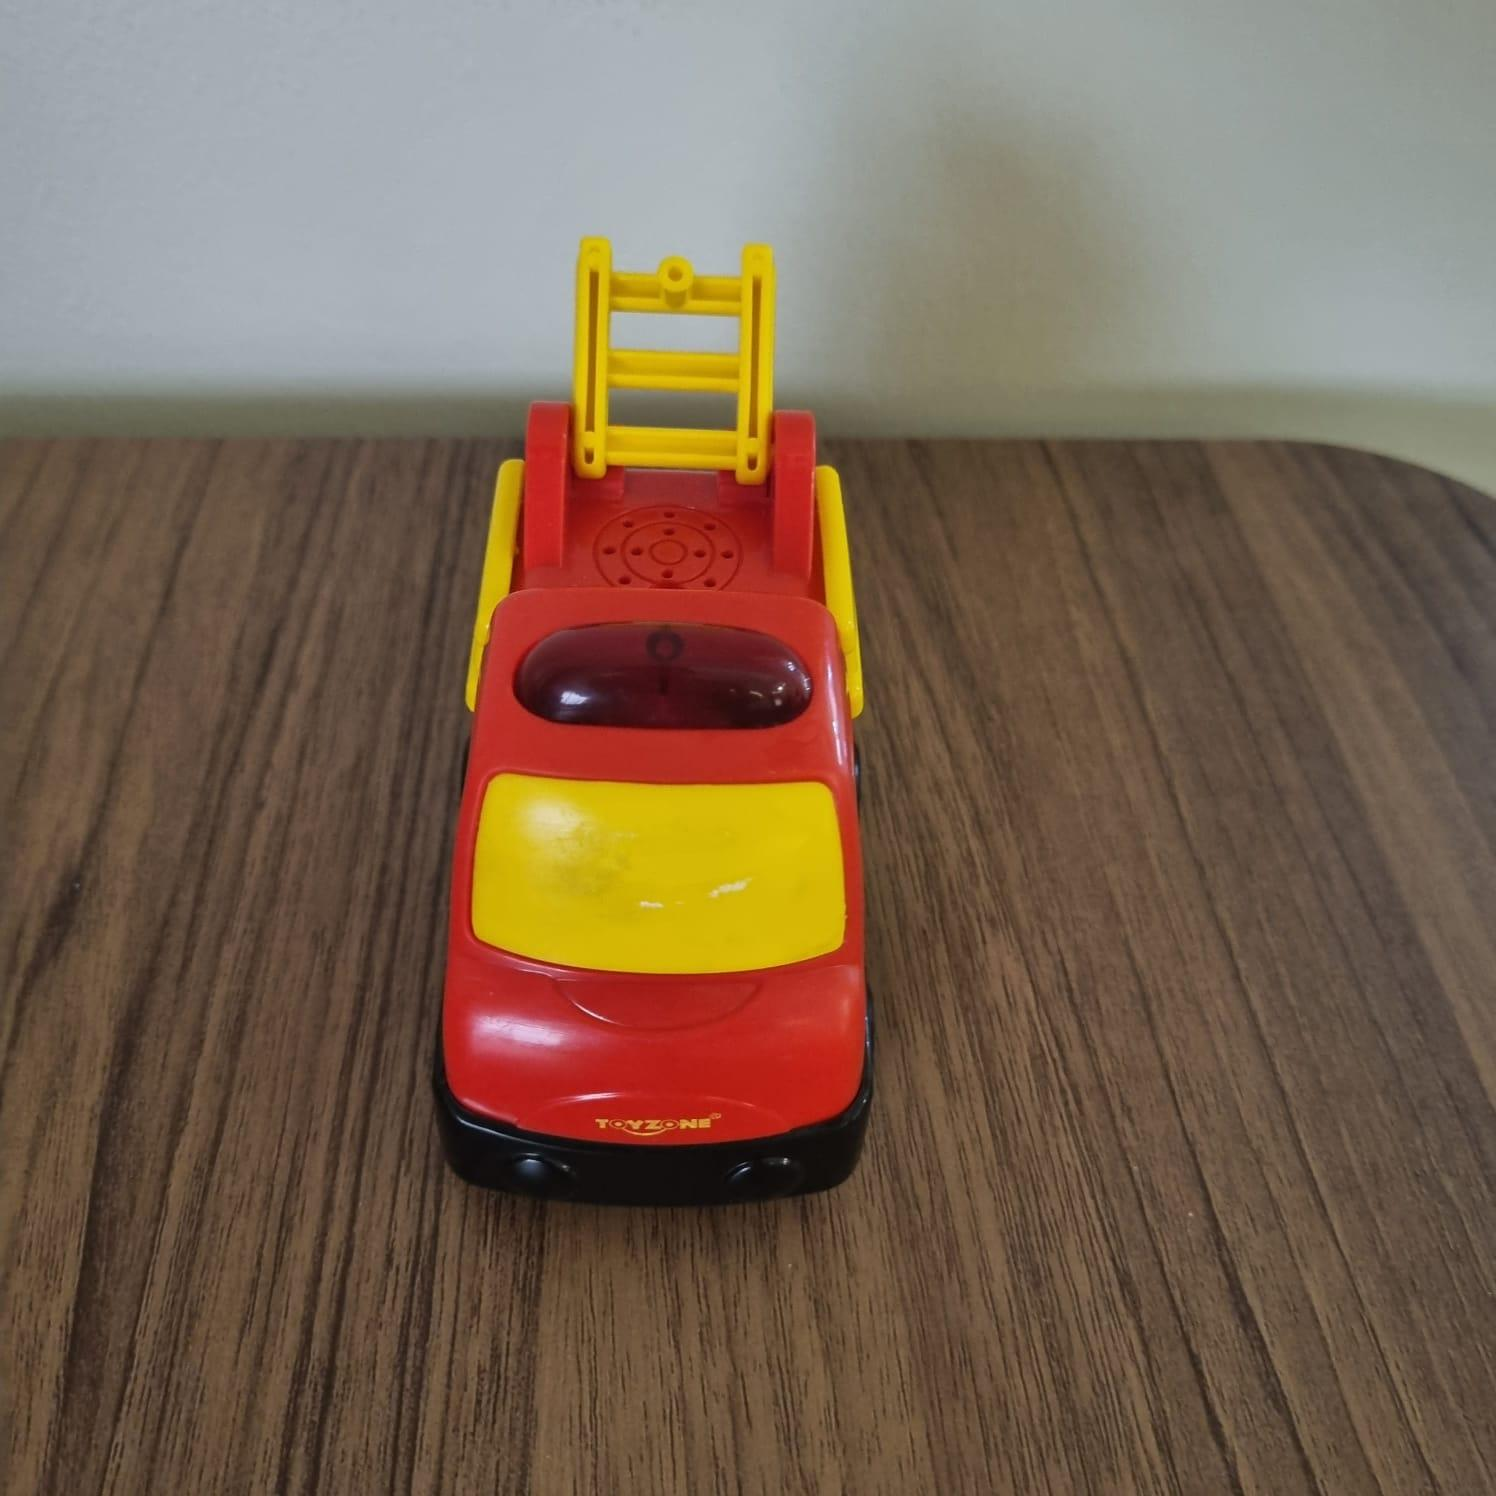firetruck_off: (444, 237, 885, 1208)
